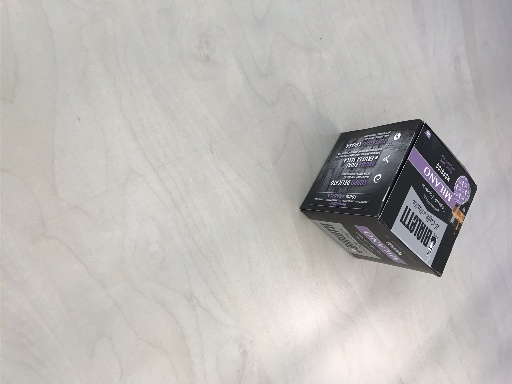Caffe: (299, 120, 478, 278)
